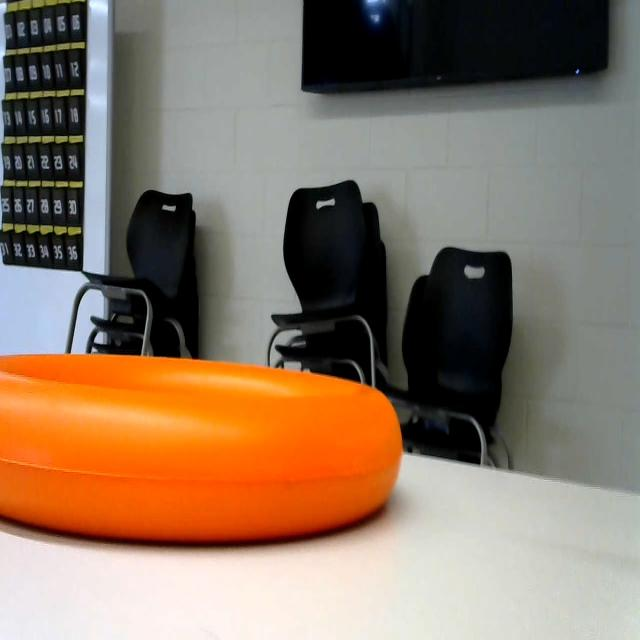note: (0, 346, 404, 584)
